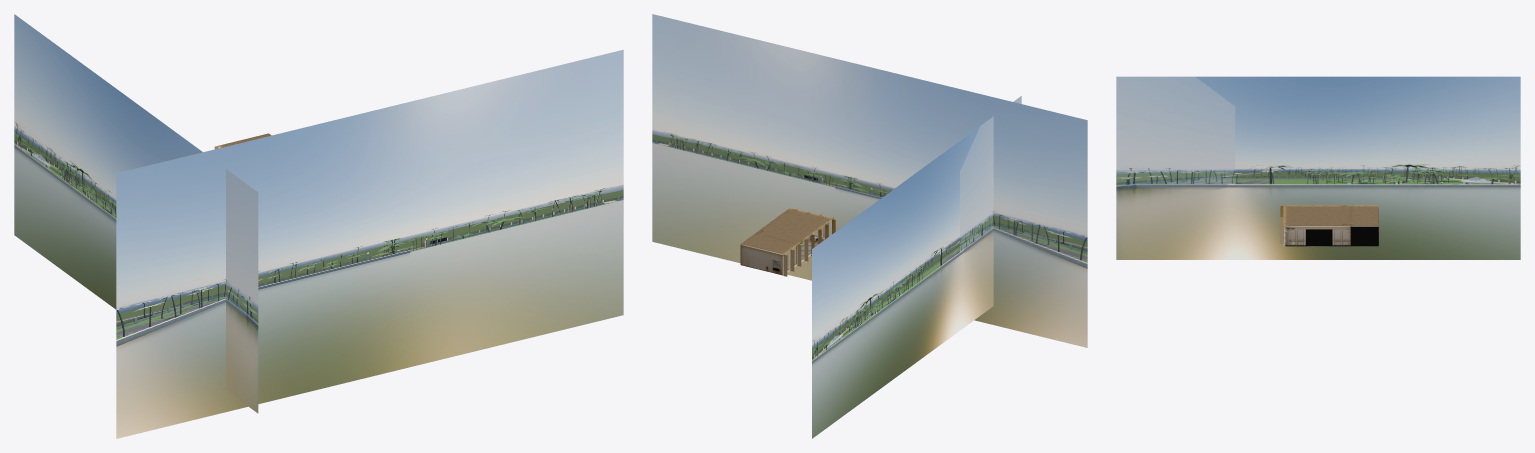
Rendered from int_eko_r1.glb.
The picture shows the model from 3 angles, left to right: view 1: azimuth 30°, elevation 25°; view 2: azimuth 150°, elevation 25°; view 3: azimuth 270°, elevation 25°; orthographic projection. The views are drawn at different scales.
Parts seen in each view (by area): view 1: VIEW_front, VIEW_side; view 2: VIEW_front, VIEW_side, ROOM; view 3: VIEW_side, ROOM.
Boxes of the visible parts, x1,y1,x2,y2 form: VIEW_front: (116,49,623,438); VIEW_side: (14,14,258,413); VIEW_front: (652,14,1087,347); VIEW_side: (812,96,1021,438); ROOM: (740,208,835,276); VIEW_side: (1116,76,1520,259); ROOM: (1280,205,1378,246).
Size of the model in its own units: 72 by 36 by 60.
4 materials, 3 textured.
